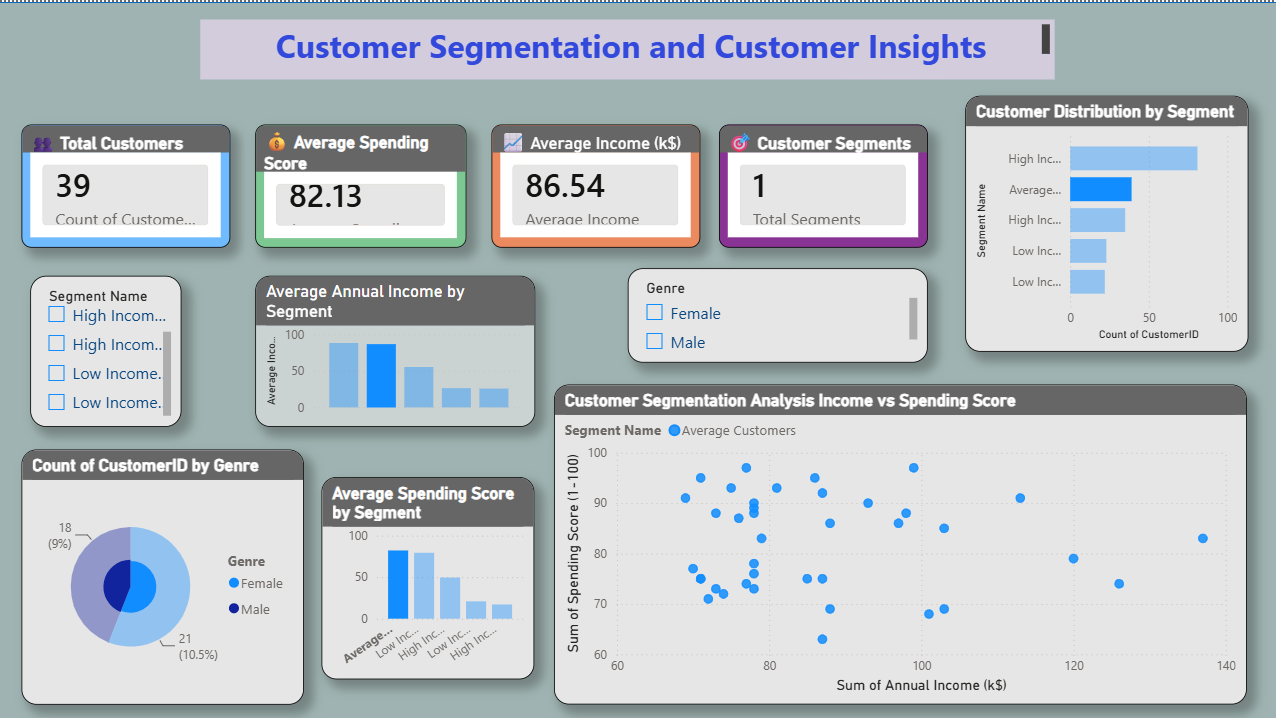

The dashboard page shown, as its layout file describes it:
{"tool":"powerbi","page":{"name":"Page 1","canvas":[1280,720],"ordinal":0},"visuals":[{"type":"shape","box":[0,0,1280,720],"z":0},{"type":"clusteredBarChart","title":"Customer Distribution by Segment","fields":{"Category":["Customer_Segments_Output.Segment Name"],"Y":["CountNonNull(Customer_Segments_Output.CustomerID)"]},"box":[965.7,94.3,282.9,255.7],"z":1000},{"type":"cardVisual","title":"👥 Total Customers","fields":{"Data":["CountNonNull(Customer_Segments_Output.CustomerID)"]},"box":[22.9,122.9,208.6,122.9],"z":2000},{"type":"cardVisual","title":"📈 Average Income (k$)","fields":{"Data":["Customer_Segments_Output.Average Income"]},"box":[492.9,122.9,208.6,122.9],"z":3000},{"type":"cardVisual","title":"💰 Average Spending Score","fields":{"Data":["Customer_Segments_Output.Average Spending"]},"box":[255.7,122.9,211.4,122.9],"z":4000},{"type":"pieChart","fields":{"Category":["Customer_Segments_Output.Genre"],"Y":["CountNonNull(Customer_Segments_Output.CustomerID)"]},"box":[22.5,447.5,282.5,255],"z":5000},{"type":"clusteredColumnChart","title":"Average Annual Income by Segment","fields":{"Category":["Customer_Segments_Output.Segment Name"],"Y":["Customer_Segments_Output.Average Income"]},"box":[255.7,274.3,280,151.4],"z":6000},{"type":"clusteredColumnChart","title":"Average Spending Score by Segment","fields":{"Category":["Customer_Segments_Output.Segment Name"],"Y":["Customer_Segments_Output.Average Spending"]},"box":[322.5,475,212.5,202.5],"z":7000},{"type":"scatterChart","title":"Customer Segmentation Analysis Income vs Spending Score","fields":{"X":["Sum(Customer_Segments_Output.Annual Income (k$))"],"Y":["Sum(Customer_Segments_Output.Spending Score (1-100))"],"Series":["Customer_Segments_Output.Segment Name"],"Category":["Customer_Segments_Output.CustomerID"]},"box":[555,382.5,692.5,320],"z":8000},{"type":"textbox","box":[201.4,17.1,854.3,60],"z":9000},{"type":"slicer","title":"Segment Name","fields":{"Values":["Customer_Segments_Output.Segment Name"]},"box":[31.4,274.3,151.4,151.4],"z":10000},{"type":"cardVisual","title":"🎯 Customer Segments","fields":{"Data":["Customer_Segments_Output.Total Segments"]},"box":[720,122.9,208.6,122.9],"z":11000},{"type":"slicer","fields":{"Values":["Customer_Segments_Output.Genre"]},"box":[628.6,265.7,300,94.3],"z":11001}]}

Visuals, with their boxes in screenshot pixels (x1, y1, x2, y2), scaled from the page's 1280x720 canvas onto the 1276x718 screenshot:
shape: Rect(0, 0, 1275, 717)
"Customer Distribution by Segment" clusteredBarChart: Rect(963, 94, 1245, 349)
"👥 Total Customers" cardVisual: Rect(23, 123, 231, 245)
"📈 Average Income (k$)" cardVisual: Rect(491, 123, 699, 245)
"💰 Average Spending Score" cardVisual: Rect(255, 123, 466, 245)
pieChart - Customer_Segments_Output.Genre x CountNonNull(Customer_Segments_Output.CustomerID): Rect(22, 446, 304, 701)
"Average Annual Income by Segment" clusteredColumnChart: Rect(255, 274, 534, 425)
"Average Spending Score by Segment" clusteredColumnChart: Rect(321, 474, 533, 676)
"Customer Segmentation Analysis Income vs Spending Score" scatterChart: Rect(553, 381, 1244, 701)
textbox: Rect(201, 17, 1052, 77)
"Segment Name" slicer: Rect(31, 274, 182, 425)
"🎯 Customer Segments" cardVisual: Rect(718, 123, 926, 245)
slicer - Customer_Segments_Output.Genre: Rect(627, 265, 926, 359)
